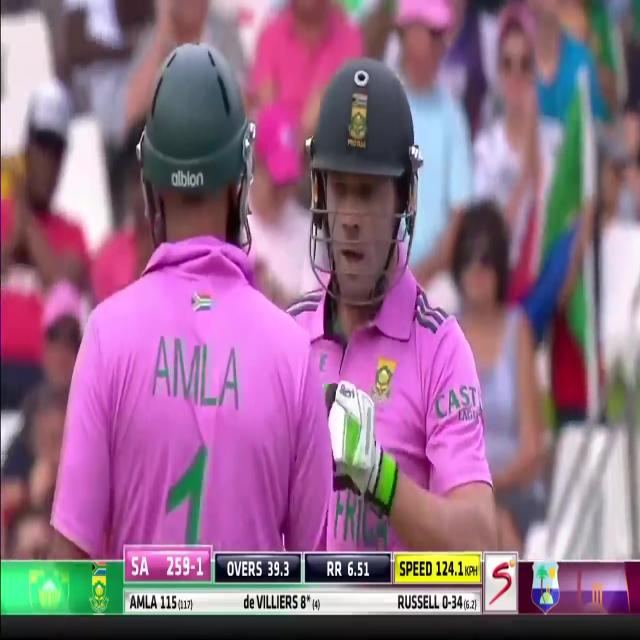Ball: (60, 46, 354, 555), (299, 49, 498, 554)
